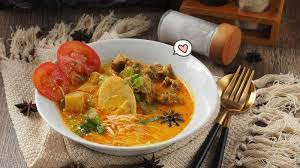soto: (32, 31, 211, 155)
